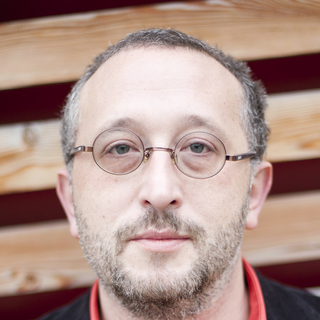eye: (99, 140, 147, 164), (175, 139, 221, 163)
